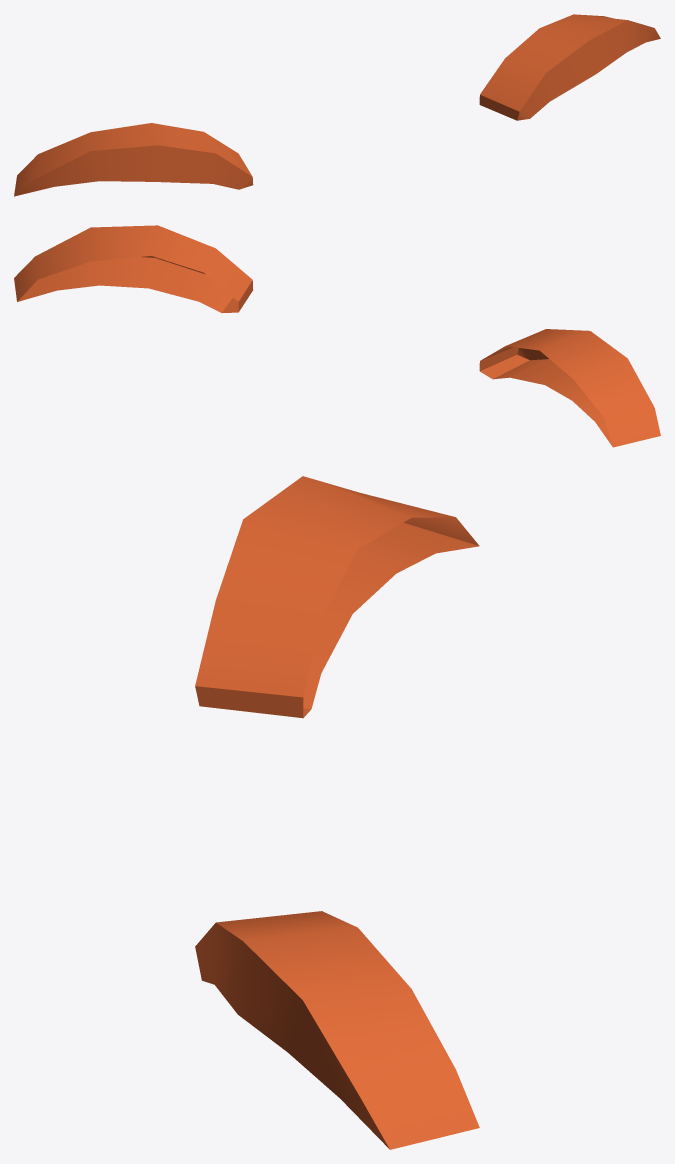
Rendered from Eyebrow_10.fbx.
The picture shows the model from 3 angles, top to bottom: view 1: azimuth 30°, elevation 25°; view 2: azimuth 150°, elevation 25°; view 3: azimuth 270°, elevation 25°; orthographic projection. The views are drawn at different scales.
Parts seen in each view (by area): view 1: Eyebrow_10; view 2: Eyebrow_10; view 3: Eyebrow_10.
Boxes of the visible parts, <box> form: Eyebrow_10: <box>14,14,660,196</box>; Eyebrow_10: <box>14,225,660,447</box>; Eyebrow_10: <box>195,476,479,1149</box>.
Size of the model in its own units: 33.06 by 2.71 by 6.3.
